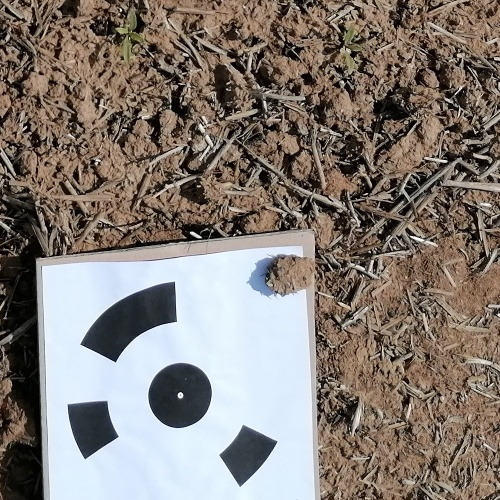beet: (116, 8, 141, 65), (338, 26, 362, 73)
